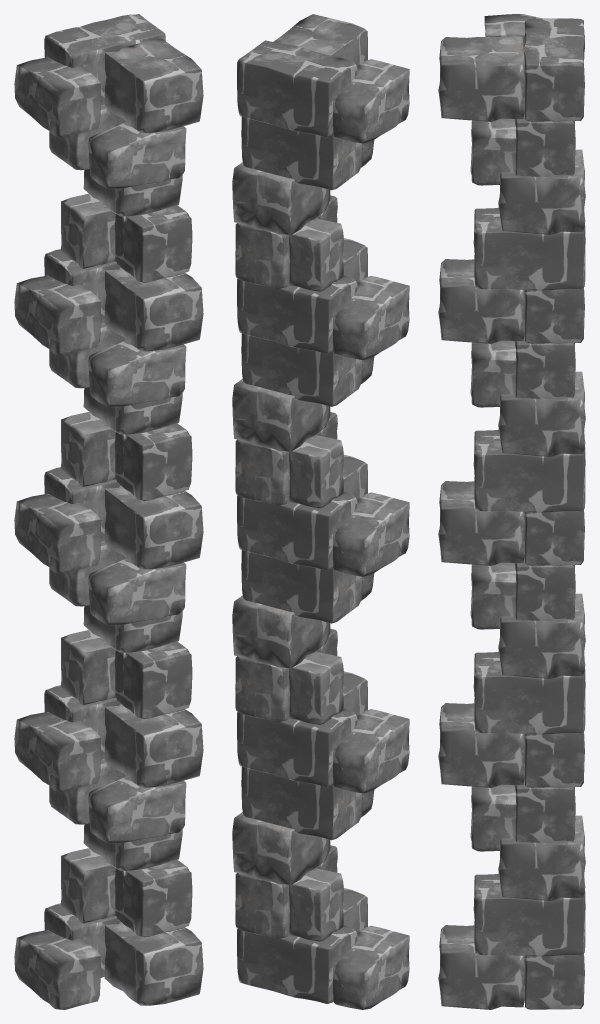
Rendered from Stone_Edge_Außen.fbx.
3 views of the same model, side by side, from view 1: azimuth 30°, elevation 25°; view 2: azimuth 150°, elevation 25°; view 3: azimuth 270°, elevation 25° (orthographic). The views are drawn at different scales.
Parts seen in each view (by area): view 1: Stone_Edge; view 2: Stone_Edge; view 3: Stone_Edge.
Part boxes in pixels (x1=…): Stone_Edge: x1=14, y1=14, x2=203, y2=1009; Stone_Edge: x1=232, y1=14, x2=409, y2=1009; Stone_Edge: x1=438, y1=14, x2=585, y2=1009.
Bounding box in the file's own units: 0.7526 × 5.06 × 0.7103.
